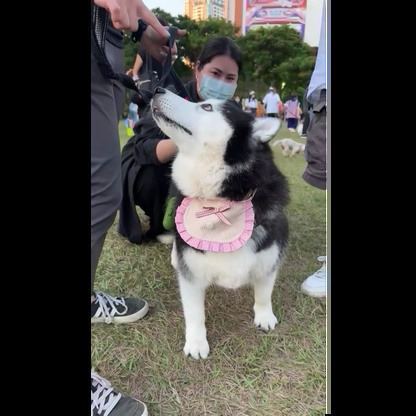husky: (138, 81, 301, 365)
